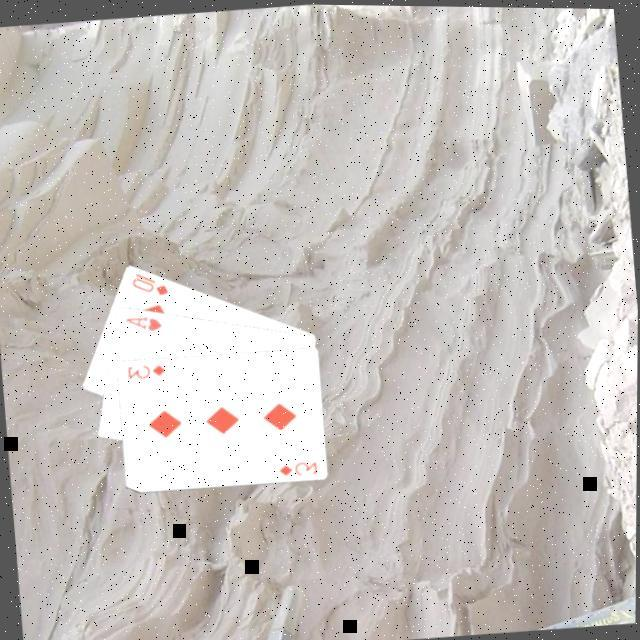10D: (126, 264, 170, 299)
3D: (122, 357, 168, 382), (272, 454, 318, 479)
AH: (120, 309, 164, 336)
